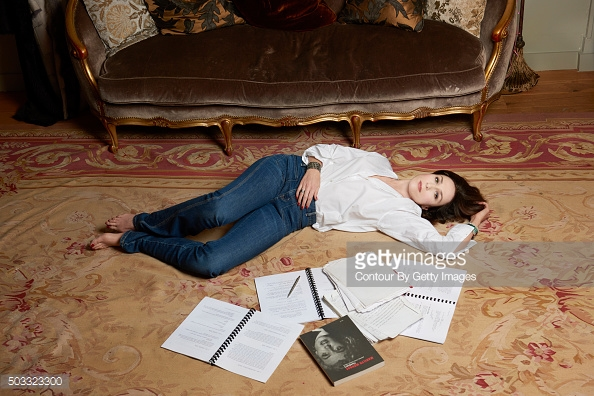deitado: (64, 121, 513, 306)
